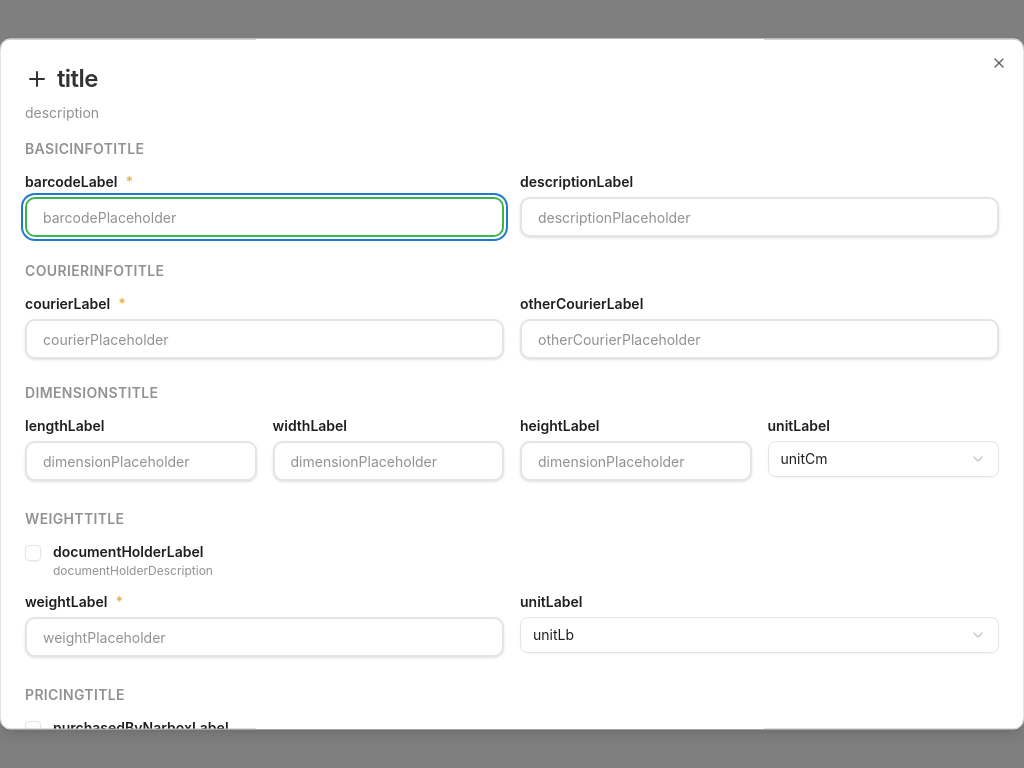
Test: AddPackageDialog › shows validation error when barcode is under 3 characters
Type "AB" into the field labelled "barcodeLabel *" at (264, 217), box [25,197,504,237]
(page scrolled)
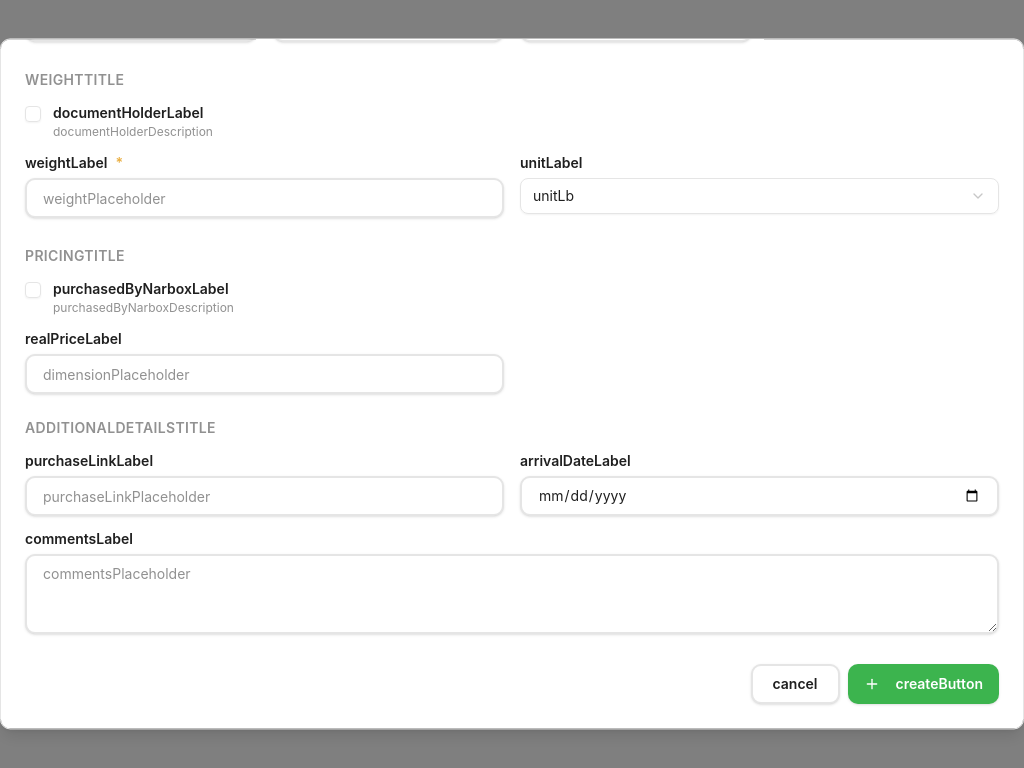
Click the button "createButton" at (923, 684), box [848,664,999,704]
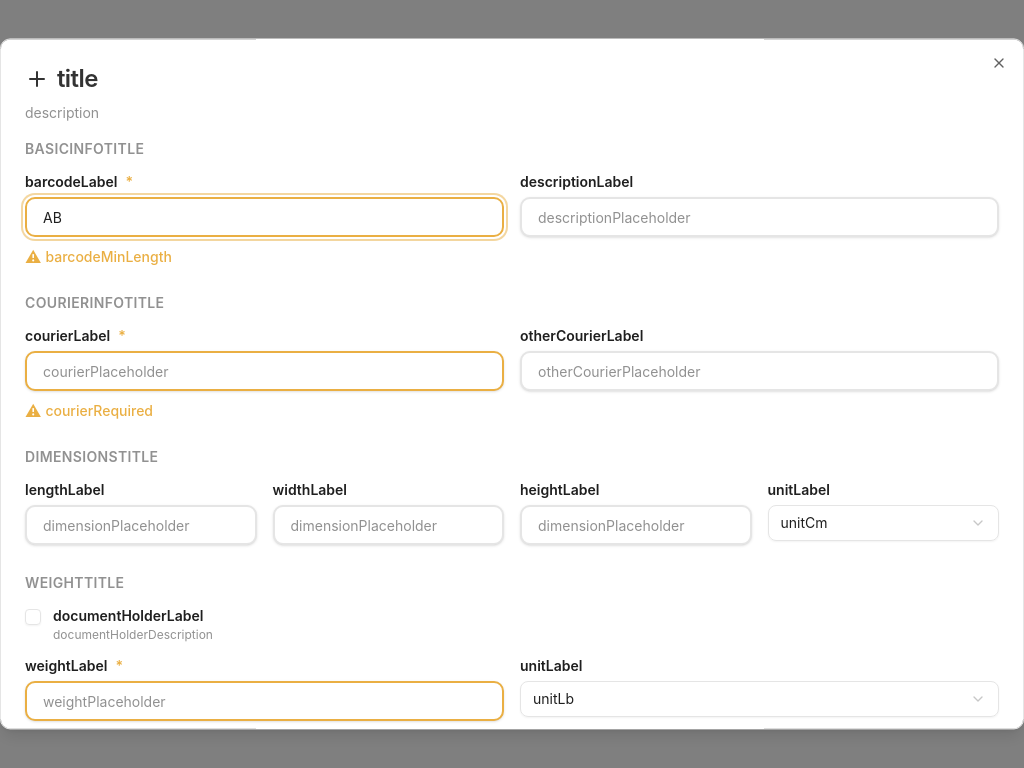
Expected: the text "barcodeMinLength" is shown, [45,248,172,265]
